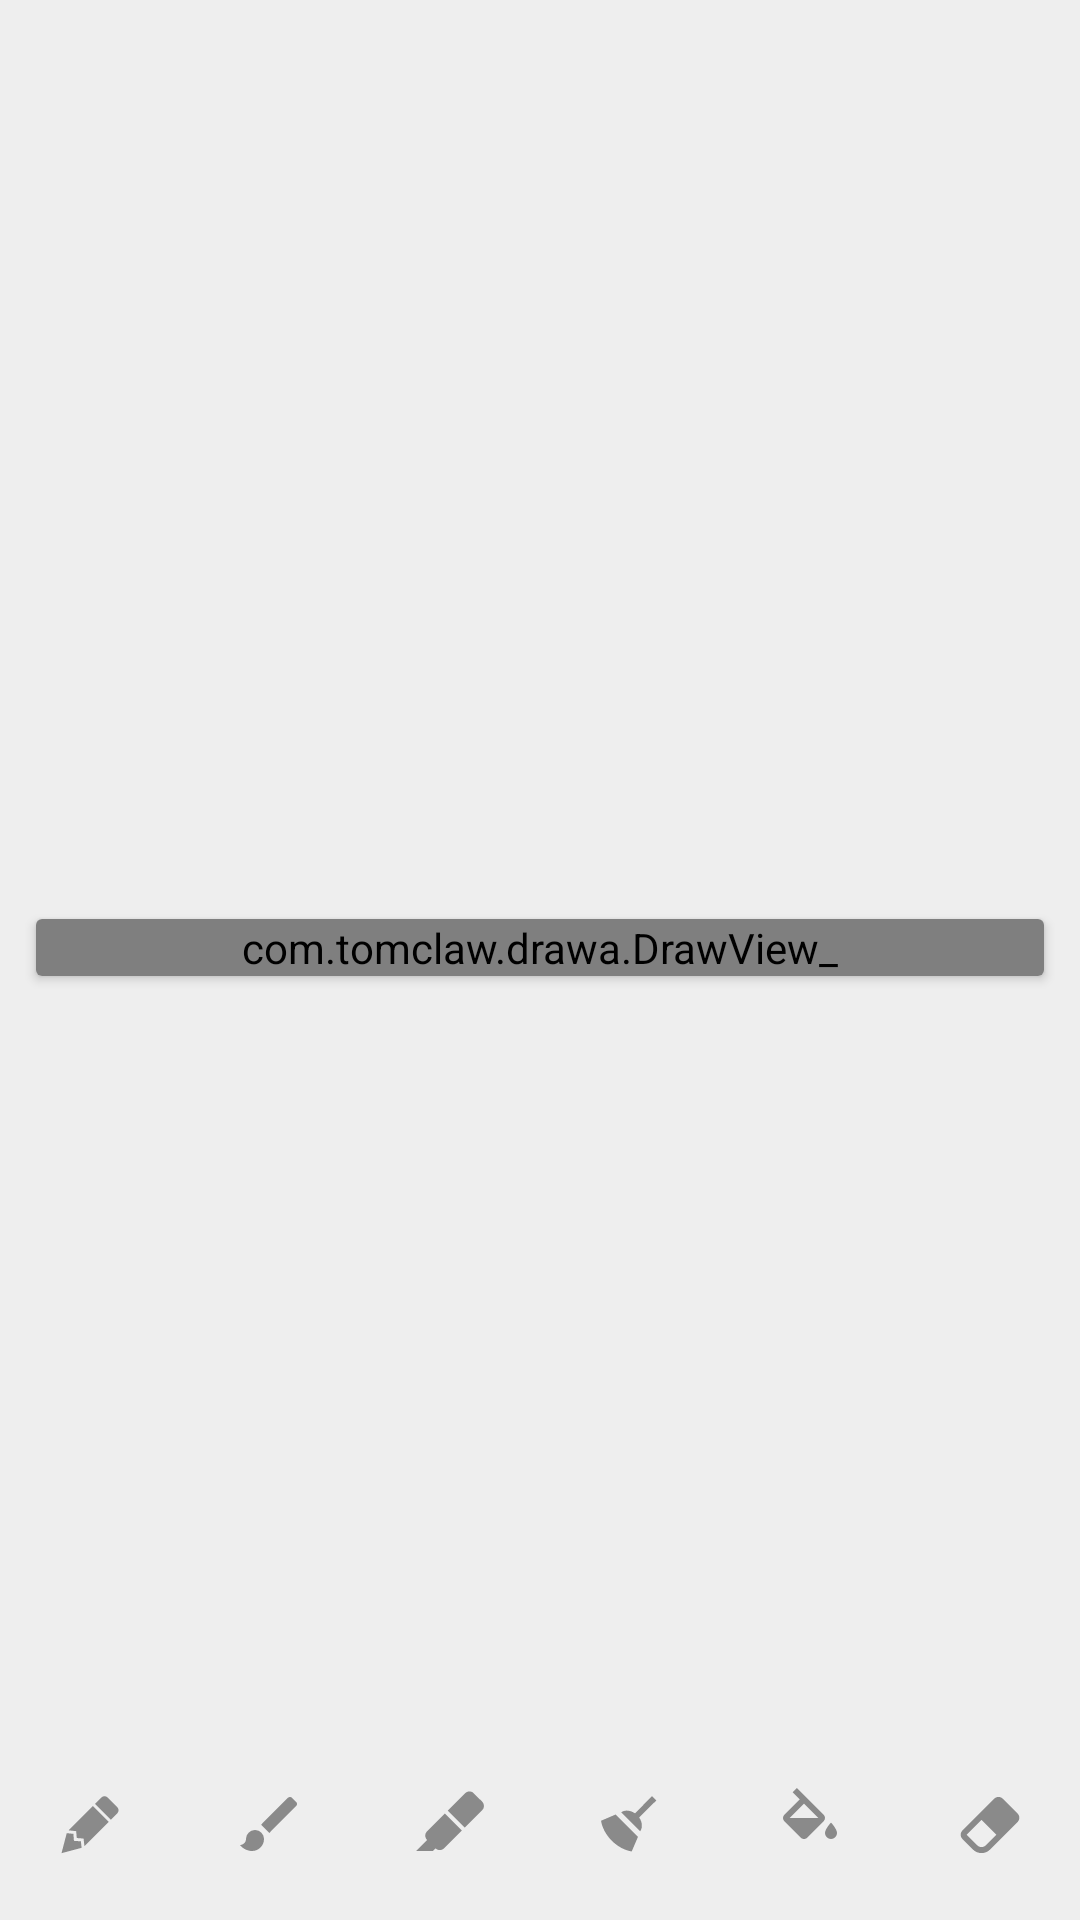

Where to tap for icons on this 1080px x 1920px app screen, as (x=x, y=y):
broom: (x=628, y=1824)
brush: (x=268, y=1824)
eraser: (x=990, y=1825)
format: (x=810, y=1813)
lead pencil: (x=90, y=1824)
marker: (x=450, y=1821)
